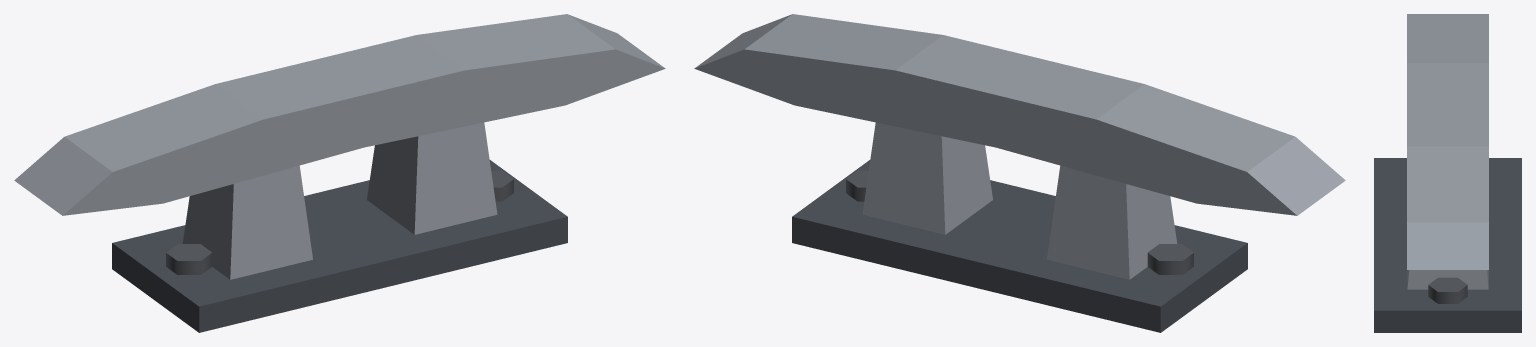
The model's file is prop_dock_cleat.glb.
3 views of the same model, side by side, from view 1: azimuth 30°, elevation 25°; view 2: azimuth 150°, elevation 25°; view 3: azimuth 270°, elevation 25° (orthographic). The views are drawn at different scales.
Visible parts, largest first — view 1: prop_dock_cleat__mesh; view 2: prop_dock_cleat__mesh; view 3: prop_dock_cleat__mesh.
Part boxes in pixels (x1=…): prop_dock_cleat__mesh: x1=14, y1=14, x2=665, y2=332; prop_dock_cleat__mesh: x1=694, y1=14, x2=1345, y2=332; prop_dock_cleat__mesh: x1=1374, y1=14, x2=1521, y2=332.
Bounding box in the file's own units: 0.36 × 0.102 × 0.09.
1 material, 1 textured.
